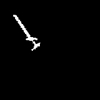double_crochet: (13, 15, 39, 49)
